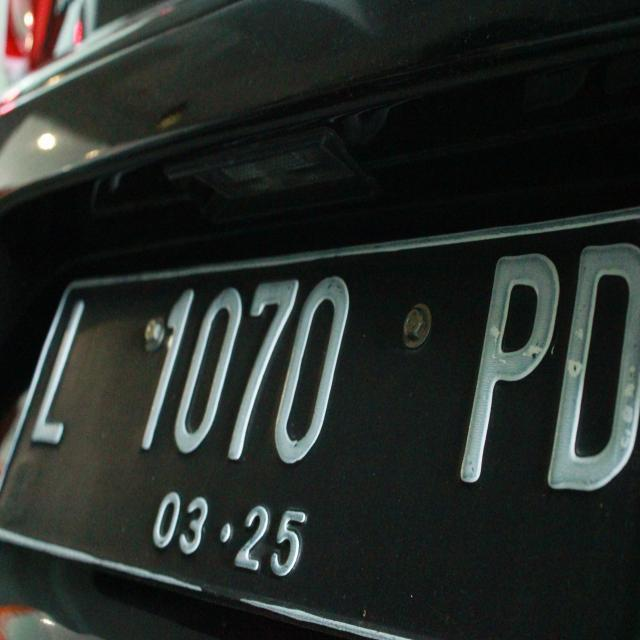0: (264, 274, 371, 470), (160, 288, 253, 467)
1: (119, 283, 213, 459)
7: (216, 273, 309, 468)
D: (537, 218, 640, 500)
L: (25, 277, 89, 478)
P: (438, 236, 566, 498)
